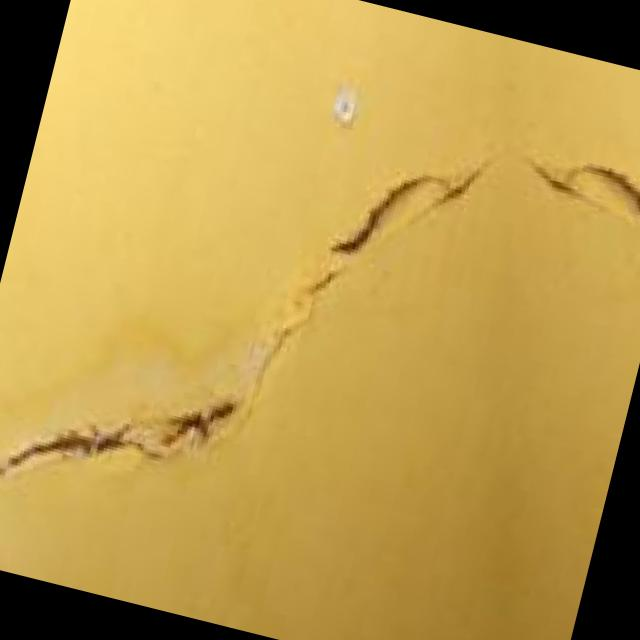crack: (0, 18, 640, 636)
